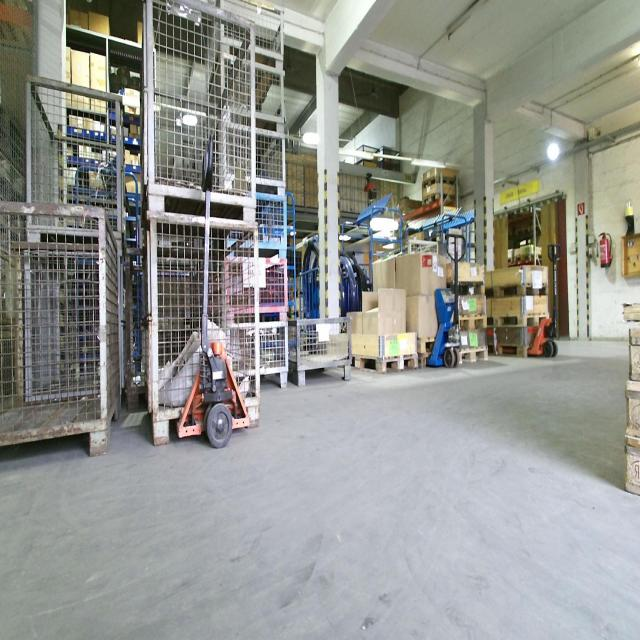pallet: (348, 347, 420, 372), (482, 281, 549, 304), (487, 311, 548, 329), (487, 345, 550, 361), (451, 343, 488, 369), (445, 279, 486, 299), (423, 190, 461, 210), (451, 313, 486, 332), (416, 352, 452, 370), (419, 174, 463, 188), (411, 332, 442, 348)
pallet_truck: (170, 131, 253, 451), (498, 238, 563, 357), (422, 230, 469, 373)
stillage: (1, 198, 121, 462), (134, 210, 263, 448), (135, 0, 259, 220), (25, 68, 128, 247), (20, 242, 128, 404), (205, 0, 284, 93), (204, 56, 286, 131), (220, 320, 293, 393), (285, 315, 352, 394), (218, 123, 289, 194), (223, 189, 290, 257), (221, 258, 290, 322)
